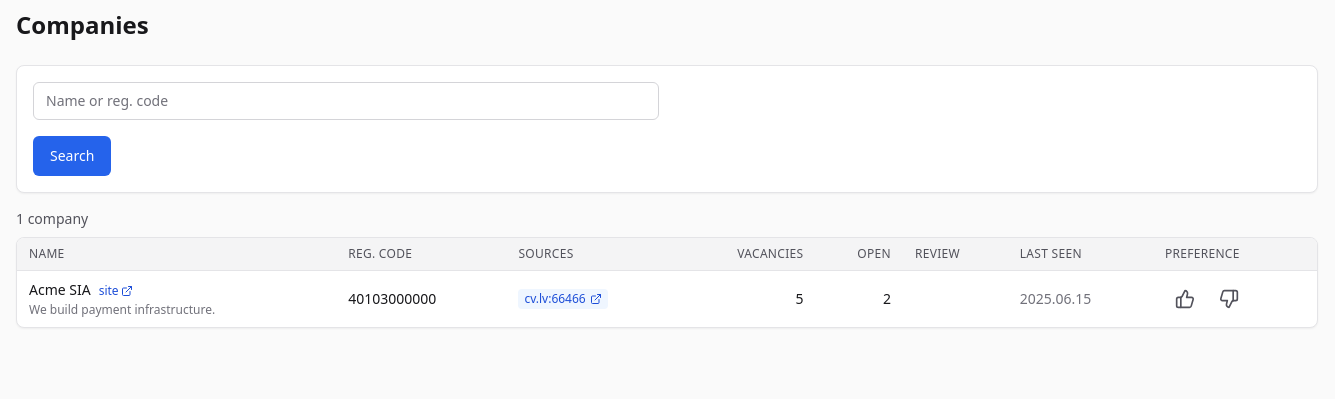
Test: Companies › shows an inline error when the preference PUT fails
Click the button named "Like" at [1185, 299], box [1165,279,1205,319]
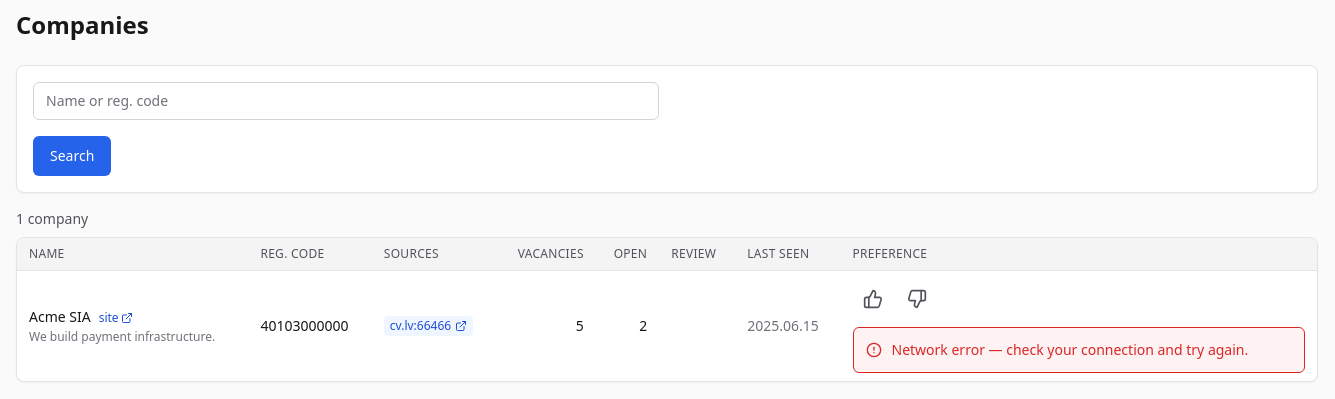
expect the message shows "Network error": met, box [892,340,1248,359]
